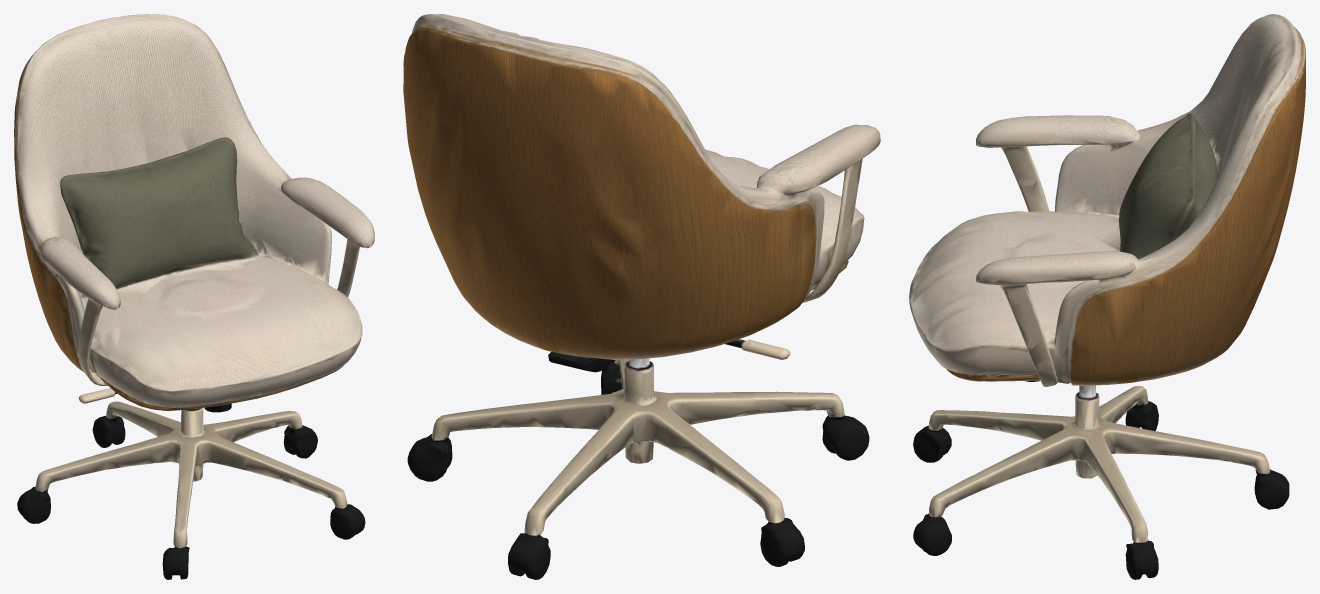
The model's file is chair-v1.glb.
The picture shows the model from 3 angles, left to right: view 1: azimuth 30°, elevation 25°; view 2: azimuth 150°, elevation 25°; view 3: azimuth 270°, elevation 25°; orthographic projection. The views are drawn at different scales.
Size of the model in its own units: 1.41 by 1.9 by 1.48.
1 material, 1 textured.
